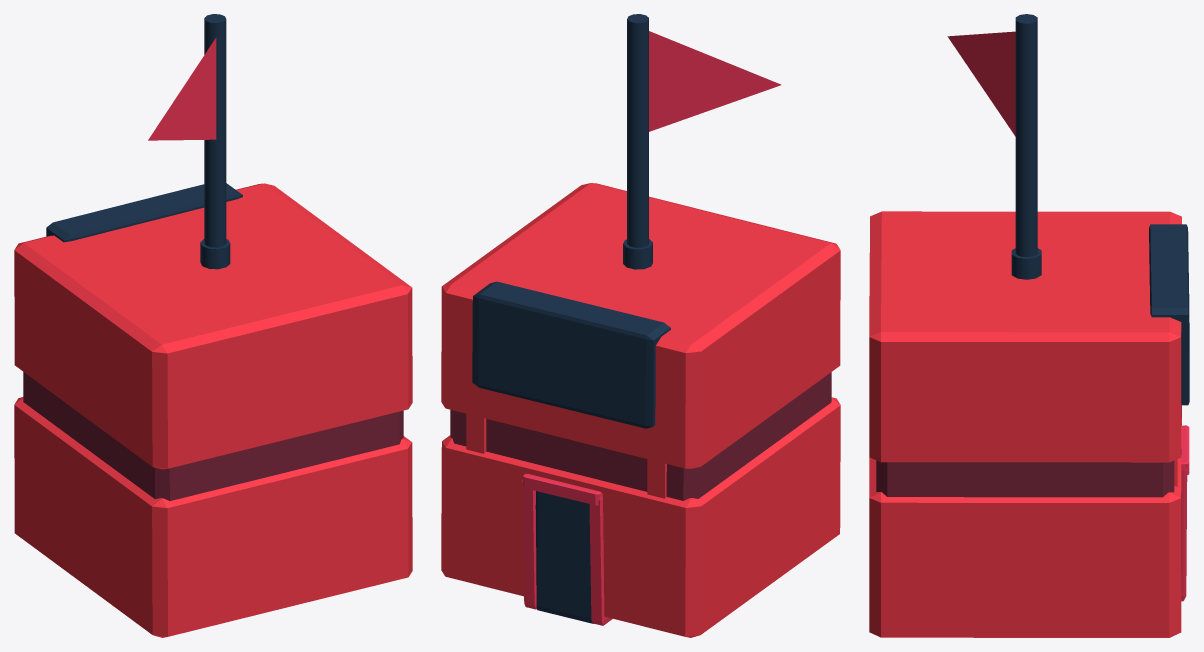
File: 3D_EnemyBase.fbx
3 renders of one model, left to right at view 1: azimuth 30°, elevation 25°; view 2: azimuth 150°, elevation 25°; view 3: azimuth 270°, elevation 25°, orthographic. The views are drawn at different scales.
Visible parts, largest first — view 1: 3D_EnemyBase; view 2: 3D_EnemyBase; view 3: 3D_EnemyBase.
Part boxes in pixels (x1=…): 3D_EnemyBase: x1=14, y1=14, x2=412, y2=637; 3D_EnemyBase: x1=441, y1=14, x2=840, y2=637; 3D_EnemyBase: x1=869, y1=14, x2=1189, y2=637.
Size of the model in its own units: 361 by 717 by 369.
1 material, 1 textured.
